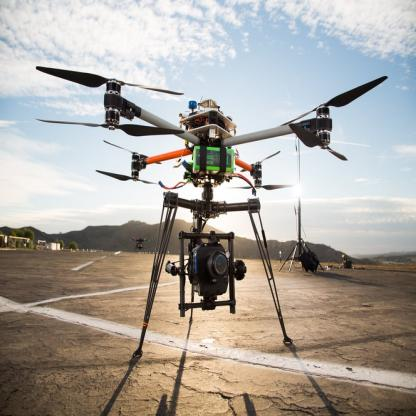drone: (24, 50, 392, 307)
